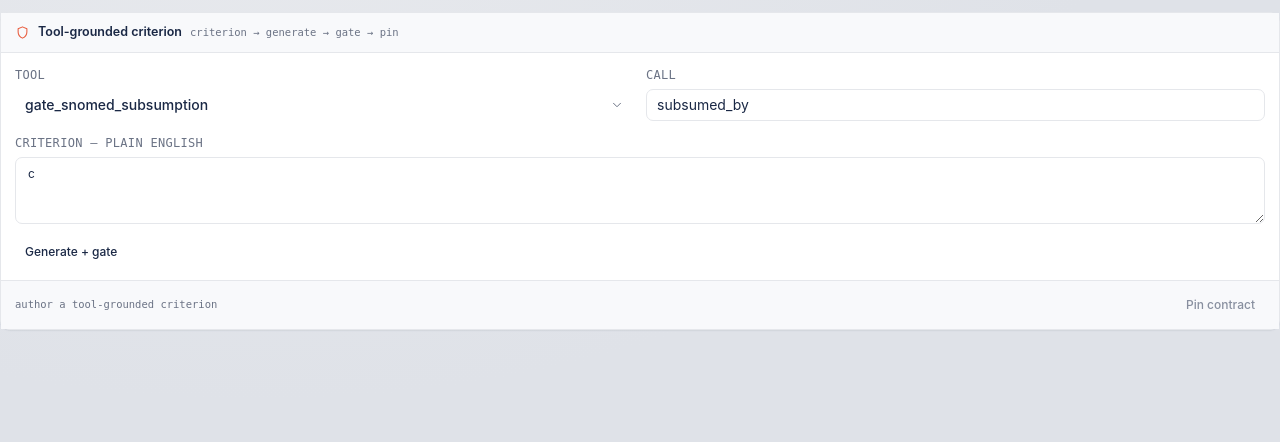
it: CriterionJuteBuilder — A3 a failing gate keeps Pin disabled › shows the failing case_ids and keeps Pin DISABLED
Click the button "Generate + gate" at (71, 252), box [15,238,127,266]
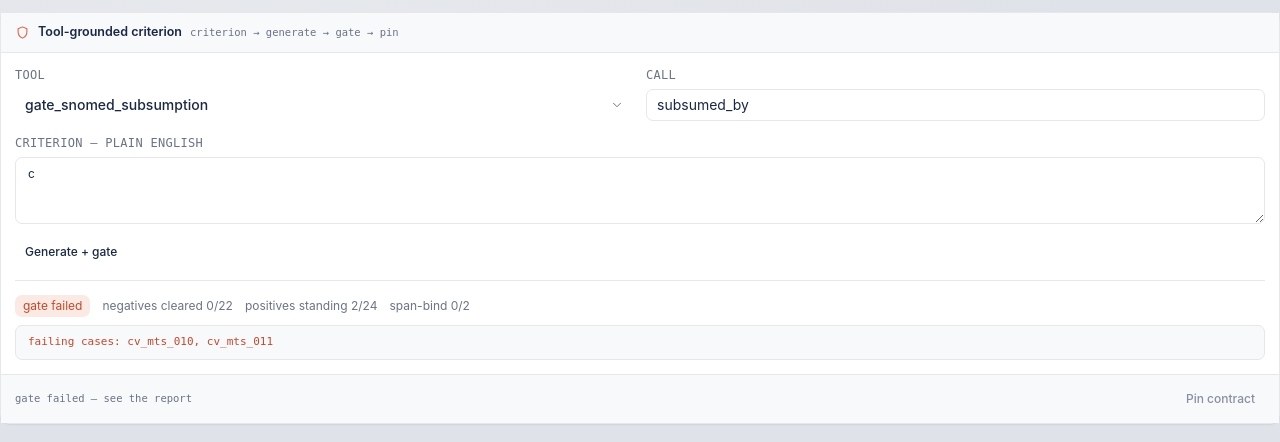
Expected: the button "Pin contract" is disabled, [1176,385,1265,413]
Expected: the text "failing cases: cv_mts_010, cv_mts_011" is shown, [15,325,1265,360]
